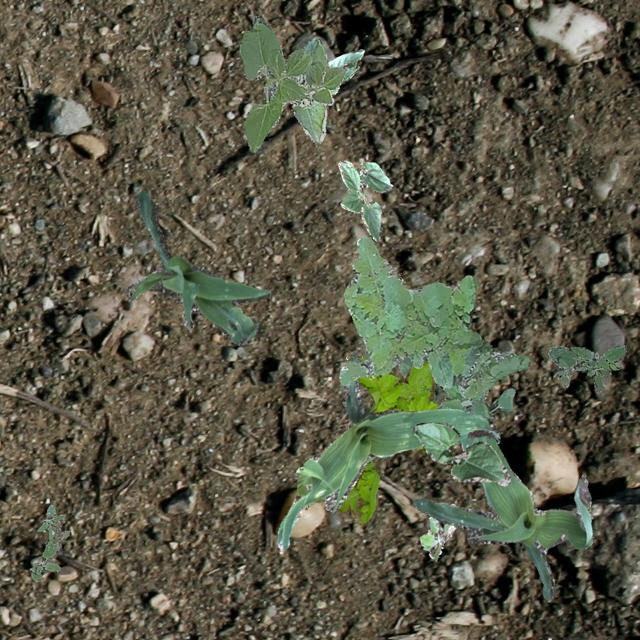crop: (276, 350, 498, 552), (412, 398, 592, 598), (124, 190, 268, 344), (238, 16, 344, 150), (412, 422, 508, 486), (336, 160, 392, 240), (398, 356, 440, 408), (327, 48, 362, 94)
weed: (340, 236, 530, 397), (313, 356, 437, 522), (436, 376, 514, 451), (546, 344, 626, 392), (28, 504, 68, 580), (418, 516, 454, 560)
